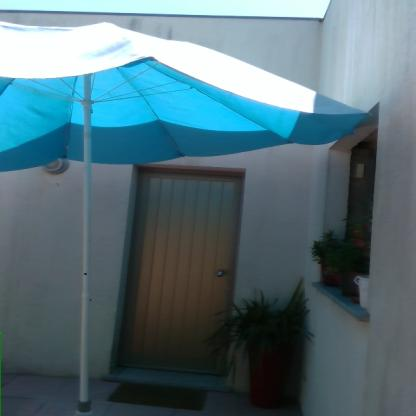closed: (113, 155, 256, 389)
